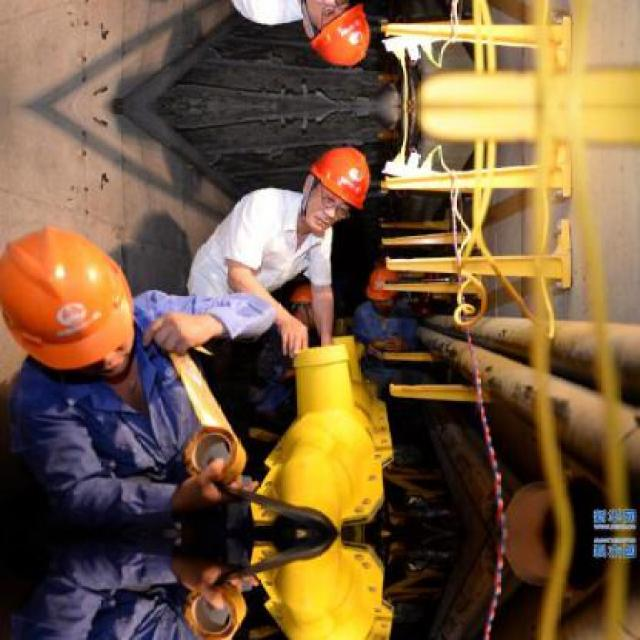helmet: (1, 224, 137, 373), (298, 140, 384, 235), (299, 0, 386, 74), (359, 260, 410, 315), (284, 278, 328, 331)
